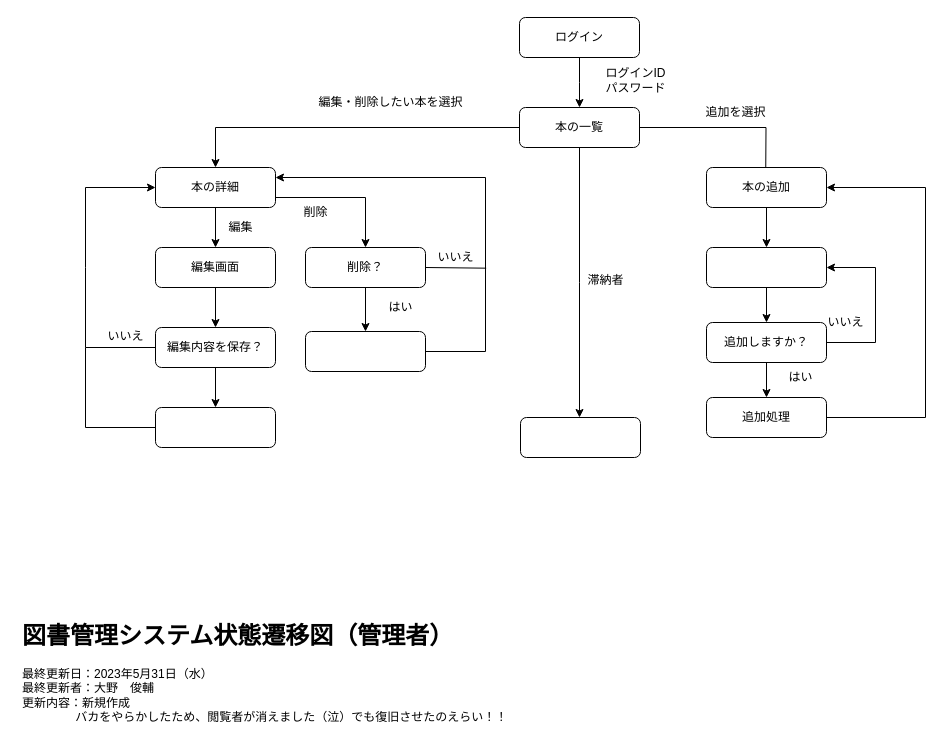
This 951x754 diagram has some shape labels left out. Here are the shapes that lost their labels. From the top down, the centre of each, then its label:
point 766,267: 本の追加編集画面
point 365,351: 削除処理
point 215,427: 保存処理
point 580,437: 滞納者一覧
